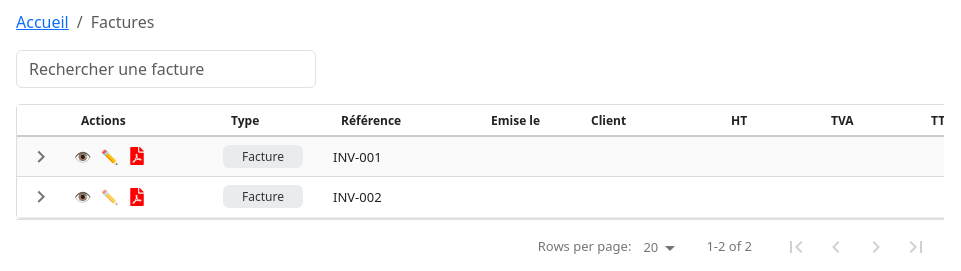
Test: InvoicesList › filtre les factures selon le texte saisi
Expected: the text "INV-001" is shown, [333, 148, 382, 166]
Type "INV-002" into the field with placeholder "Rechercher une facture".
click(166, 69); type("INV-002")  # box [16, 50, 316, 88]
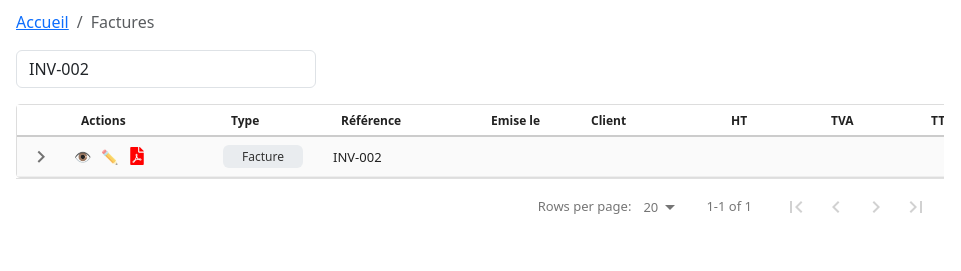
Expected: the text "INV-002" is shown, [333, 148, 382, 166]
Expected: the text "INV-001" is gone
